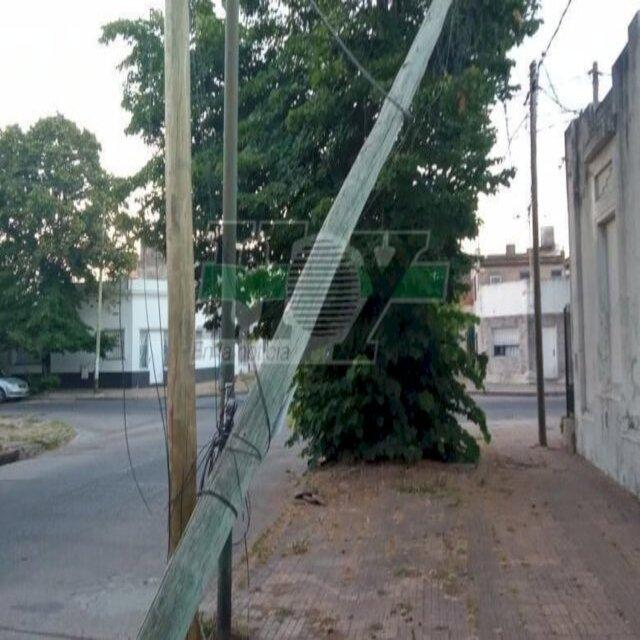Inclined Pole: (136, 0, 453, 640)
